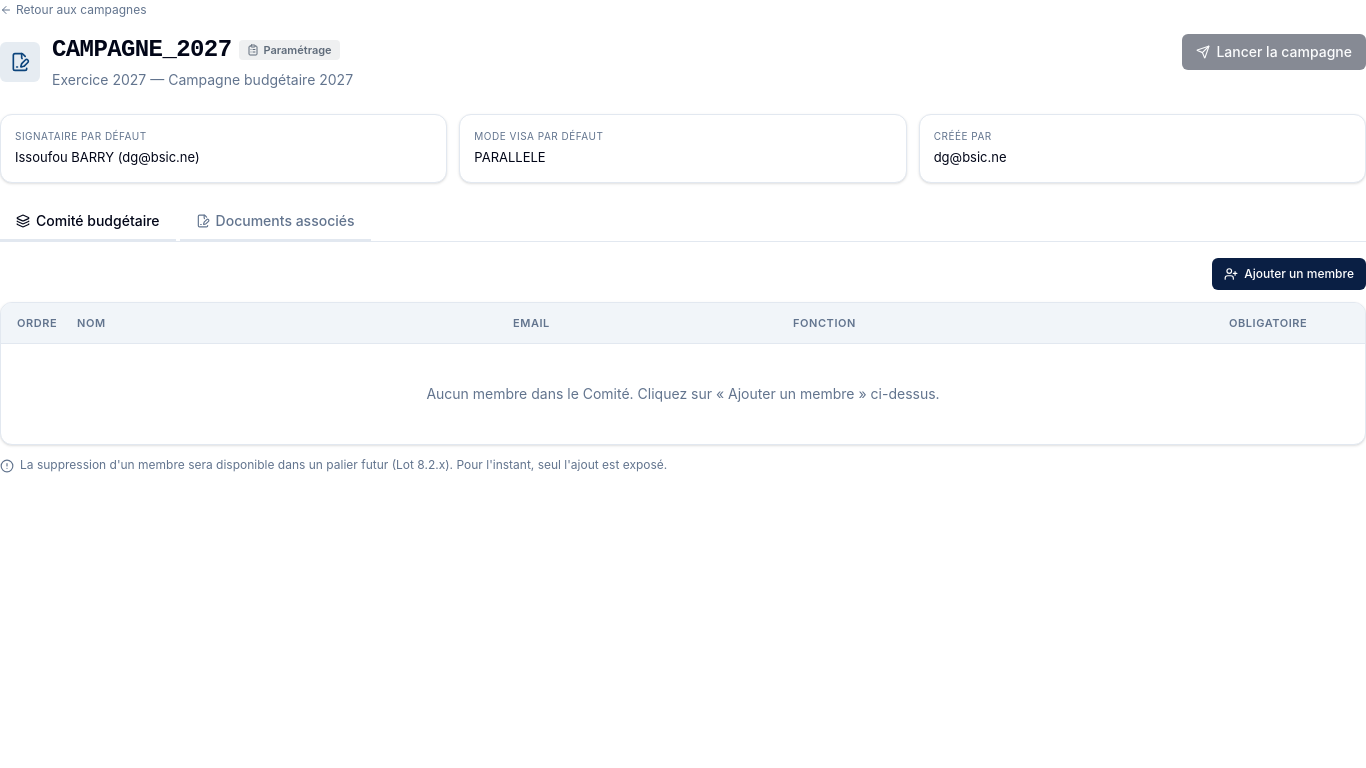
Test: CampagneDetailPage (Lot 8.2.A) › click "Ajouter membre" ouvre la modale + déclenche fetch users
The width and height of the screenshot is (1366, 768).
Click the button with test id "btn-ajouter-membre". click: (1289, 274)
box: [1212,258,1365,290]
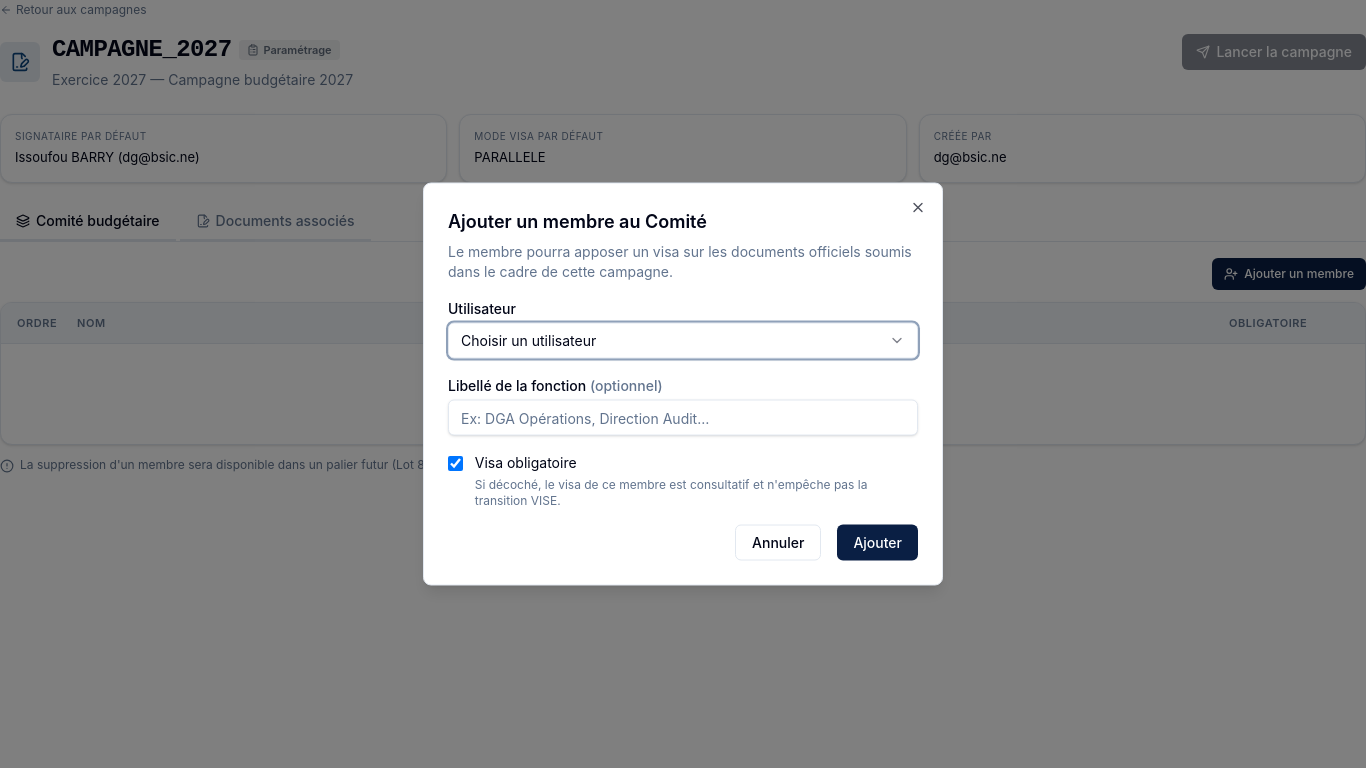
Expected: the heading "Ajouter un membre au Comité" is shown, [448,210,707,232]
